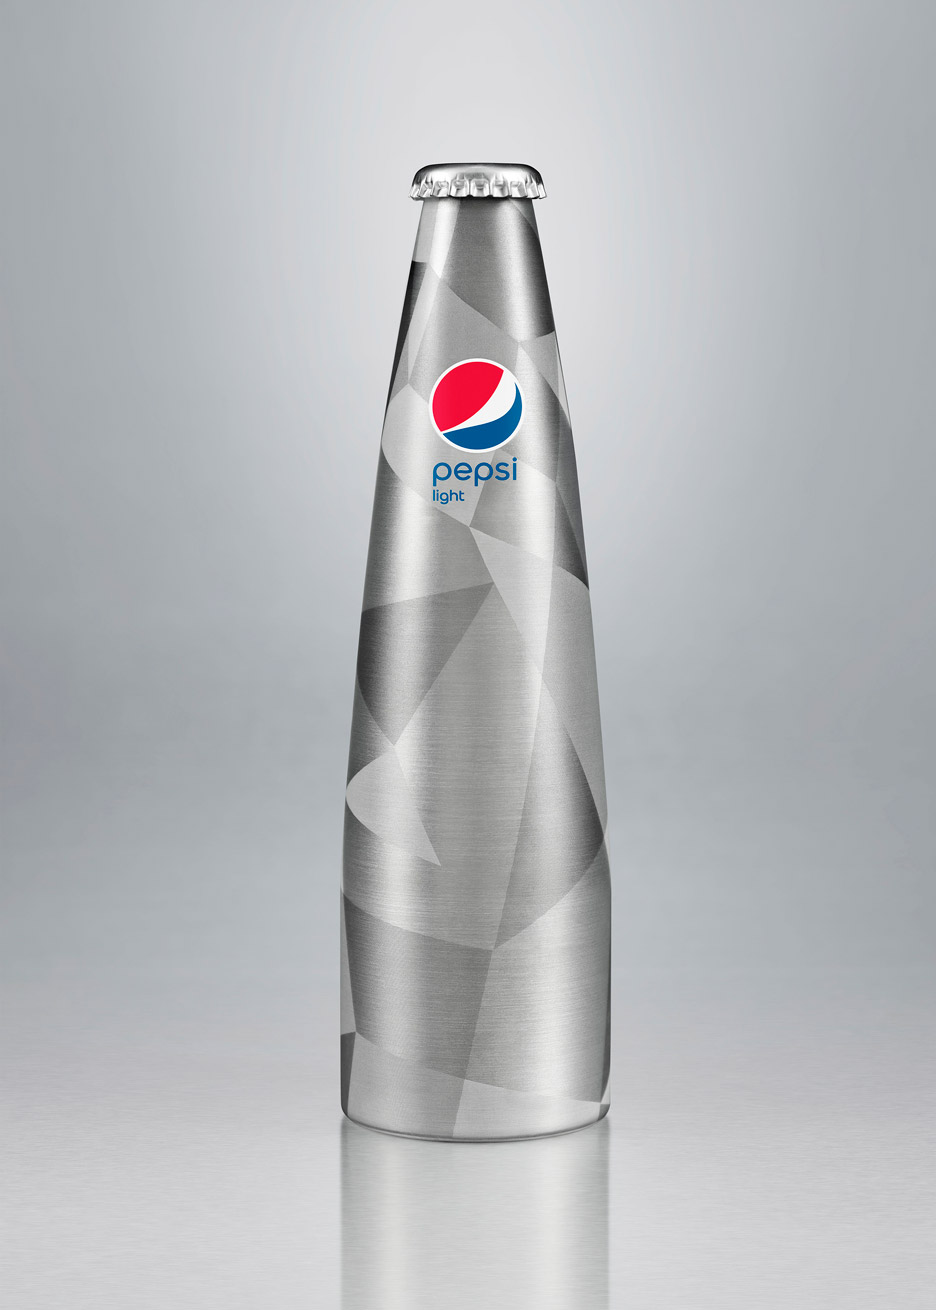pepsi: (425, 351, 524, 451), (425, 360, 524, 451)
